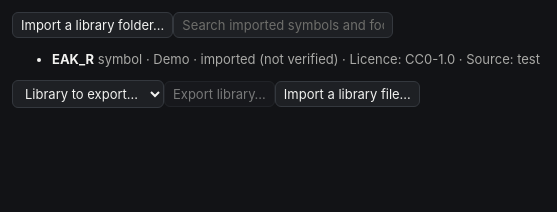
Test: LibraryFolders › exports a chosen library and imports a file without trusting its maturity
Expected: the text "EAK_R" is shown, [52,51,94,67]
Expected: the button "Export library…" is disabled, [164,81,275,107]
Select "Demo (2)" in the dropdown named "Library to export" at [88, 94], box [12,80,164,108]
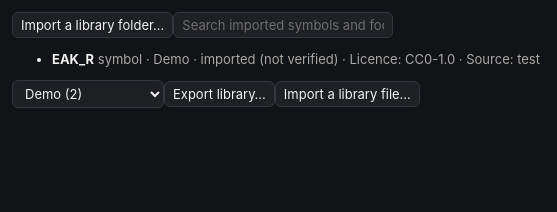
Click the button "Export library…" at [219, 94], box [164,81,275,107]
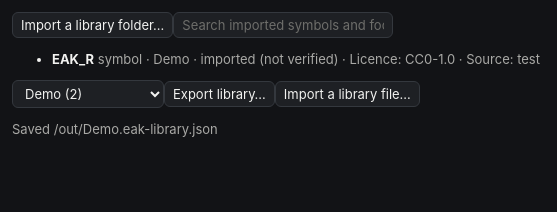
Expected: the text "Saved /out/Demo.eak-library.json" is shown, [12,121,218,137]
Click the button "Import a library file…" at [347, 94], box [275,81,420,107]
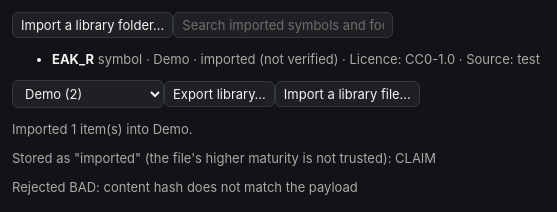
Expected: the text "Imported 1 item(s) into Demo." is shown, [12,121,192,137]
Expected: the text "Stored as \"imported\" (the file's higher maturity is not trusted): CLAIM" is shown, [12,150,436,166]
Expected: the text "Rejected BAD: content hash does not match the payload" is shown, [12,179,358,195]
